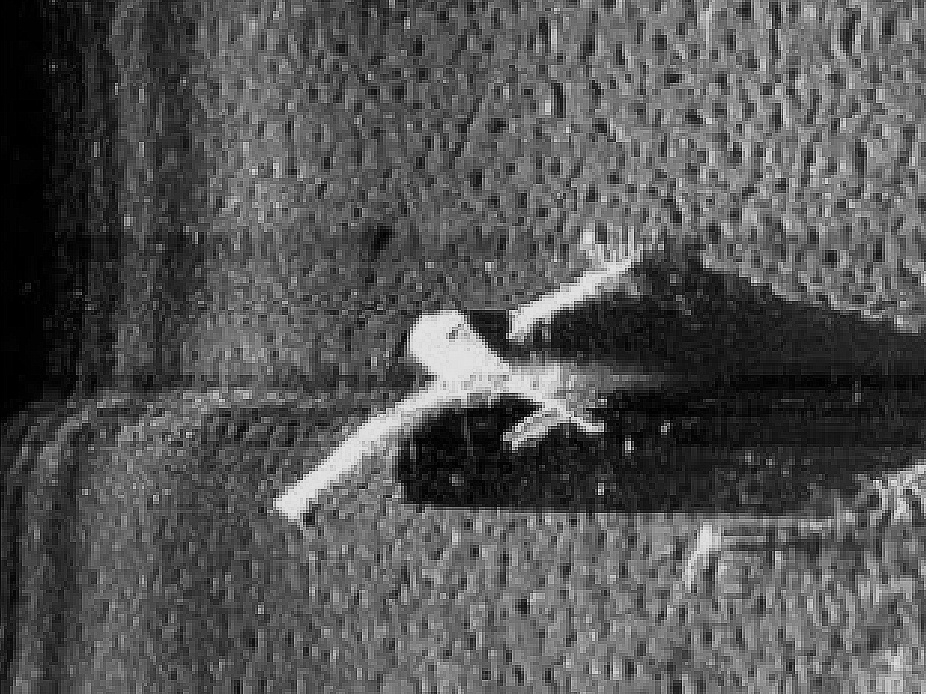plane: (271, 244, 659, 523)
